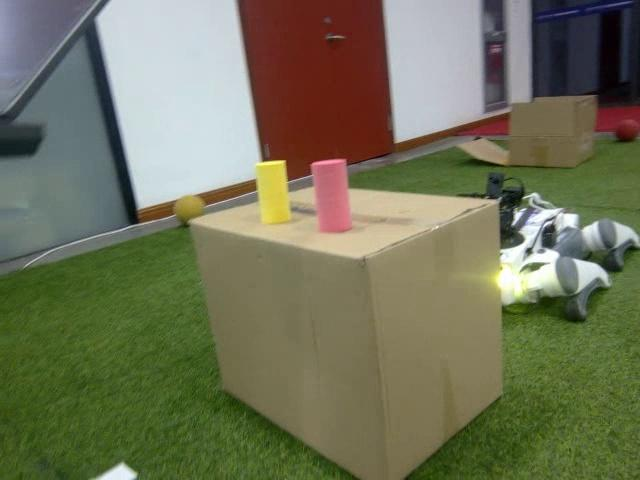red_ball: (613, 118, 638, 146)
red_cylinder: (309, 156, 352, 235)
yellow_ball: (171, 194, 206, 231)
yellow_cylinder: (249, 158, 293, 227)
